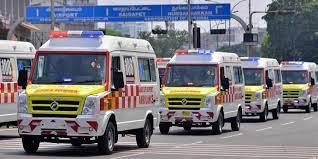ER: (16, 30, 160, 150), (160, 49, 245, 133), (240, 57, 283, 121), (1, 40, 33, 125), (281, 60, 318, 113)
